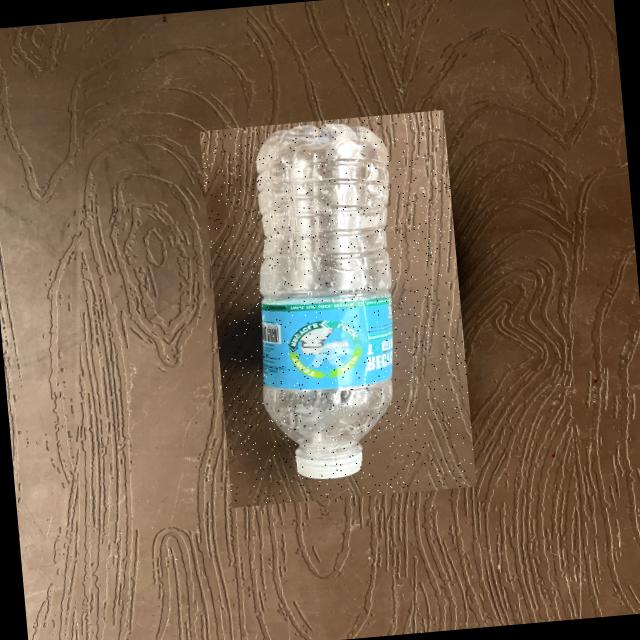REJECT: (198, 109, 475, 506)
